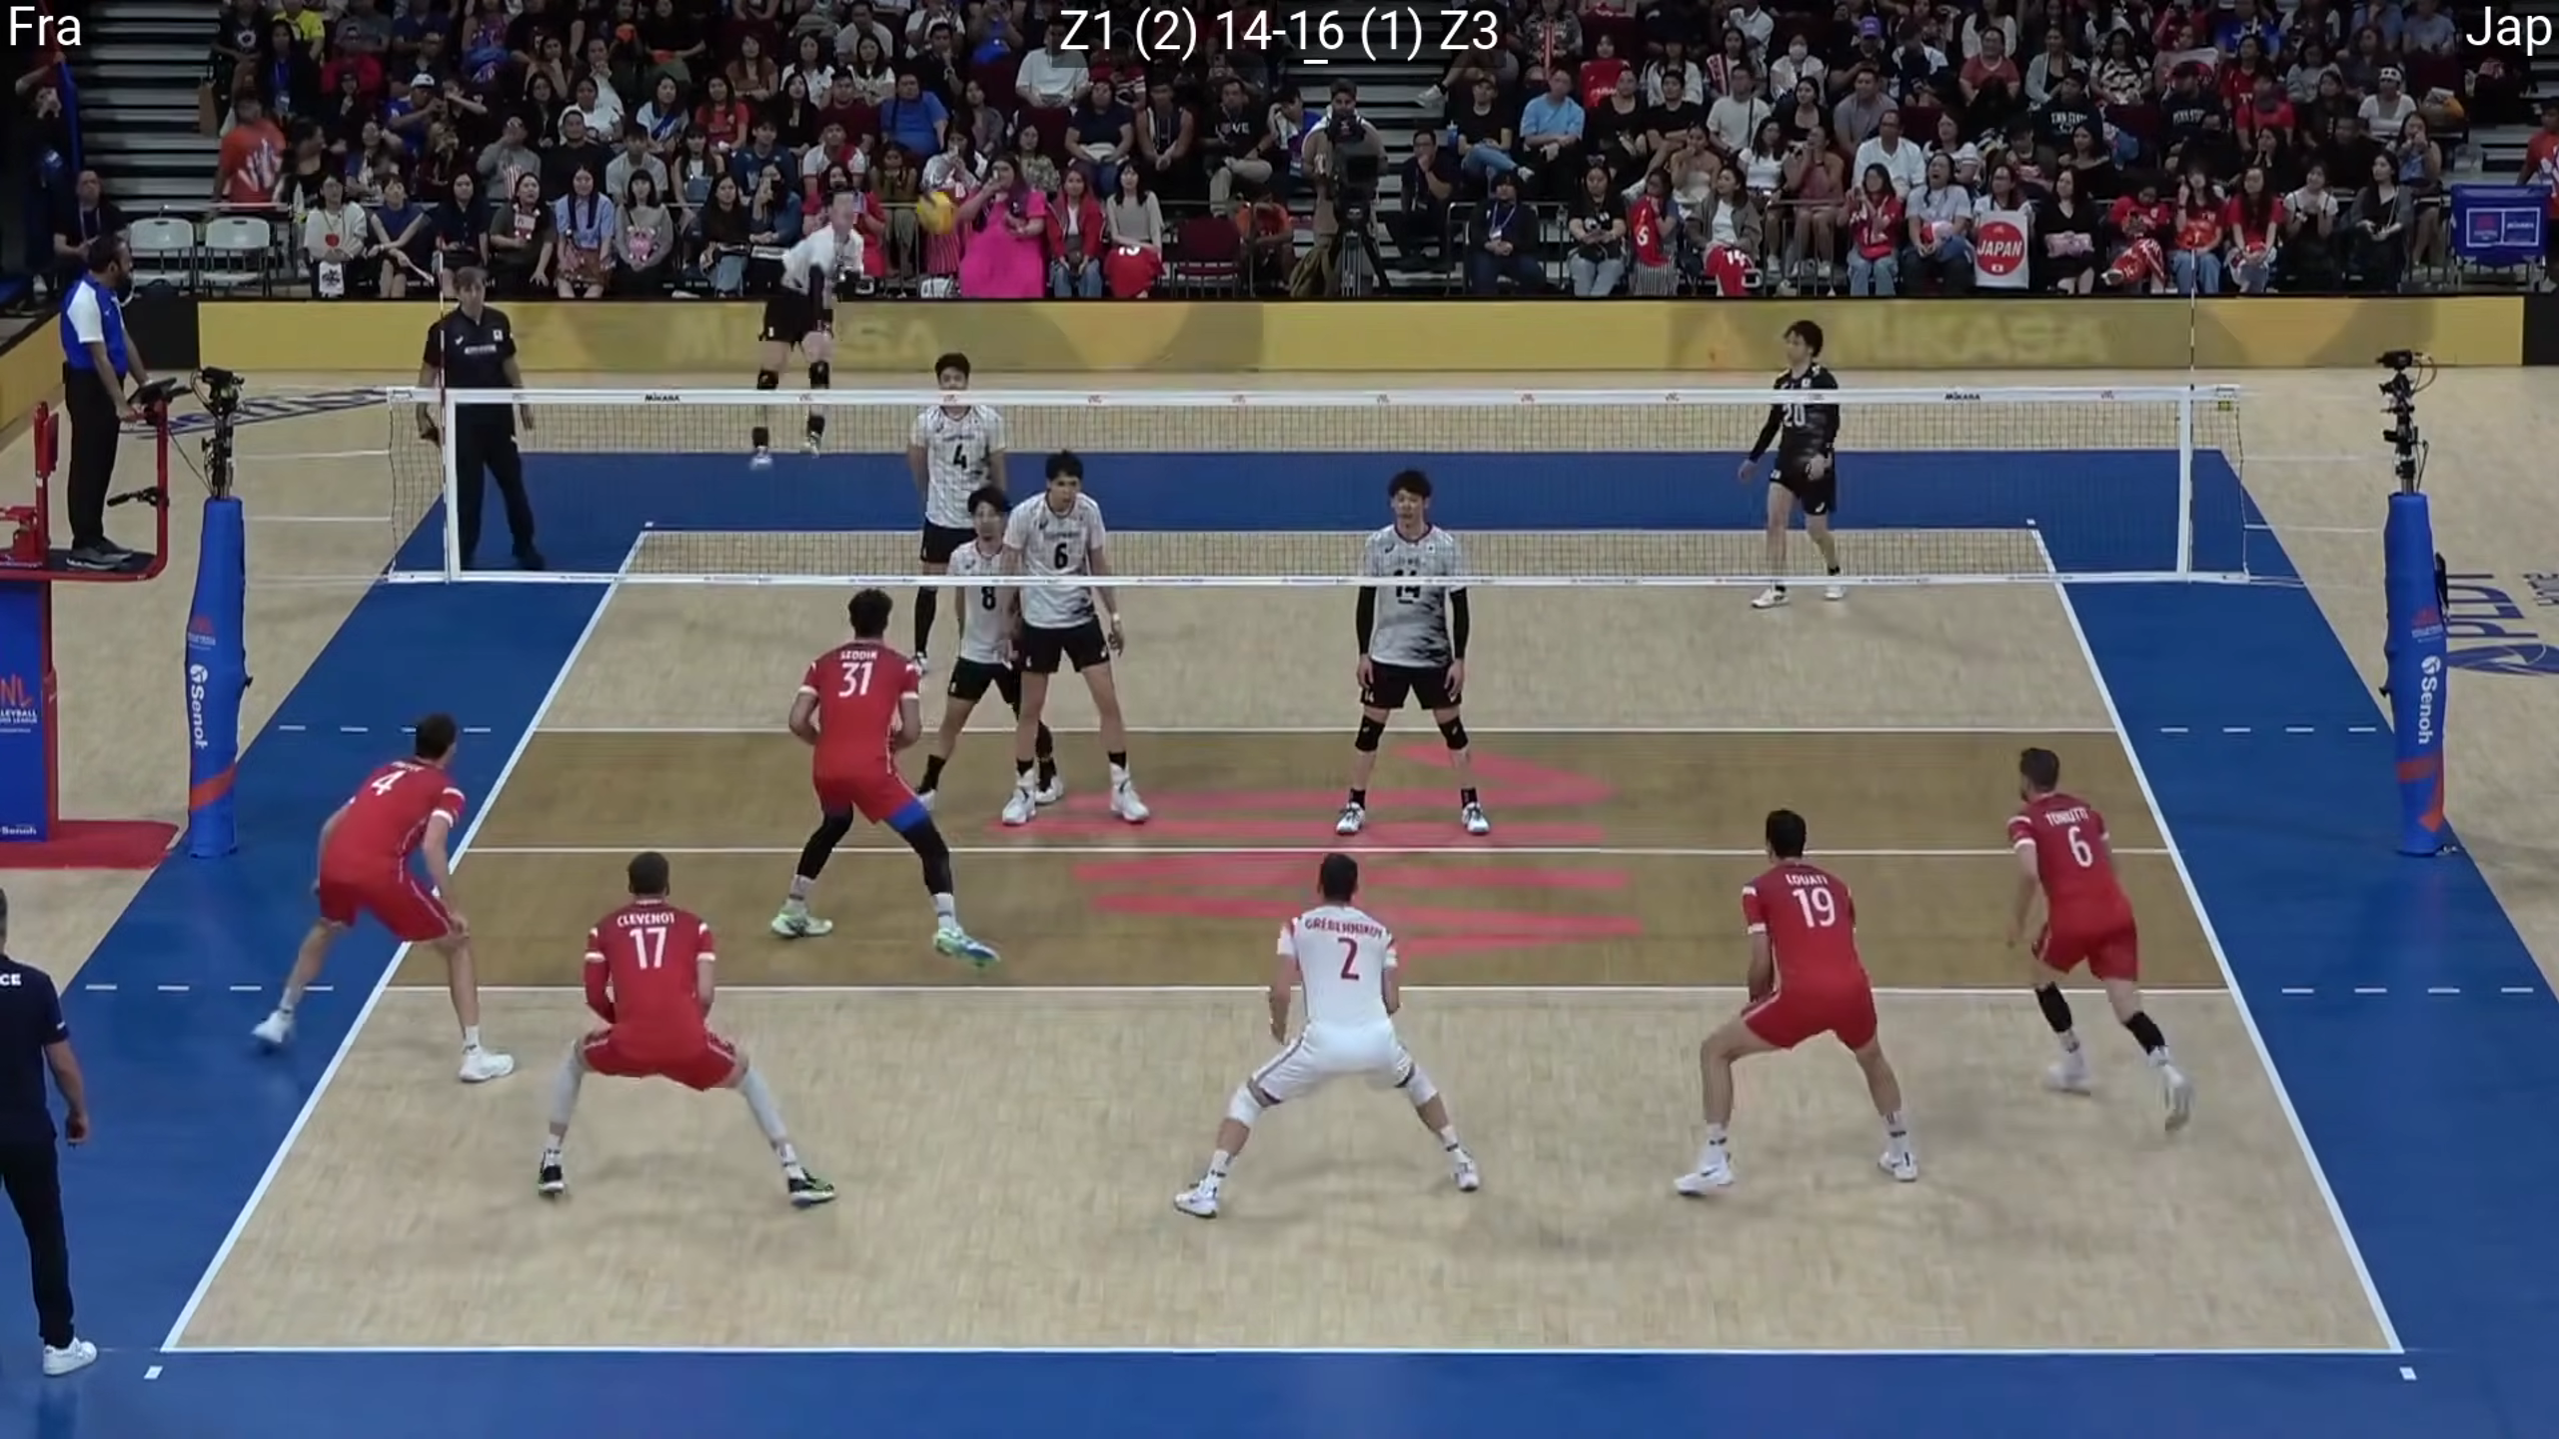Ball: (916, 190, 958, 235)
